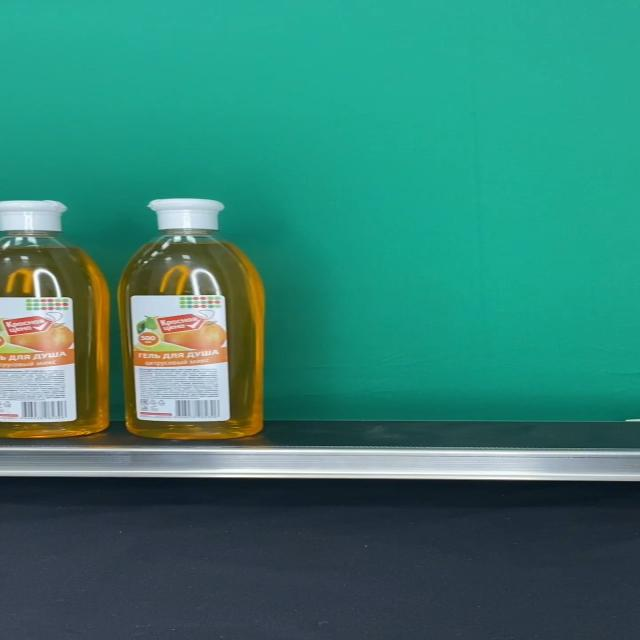Bottle: (119, 198, 264, 441)
Cap: (147, 198, 225, 230)
